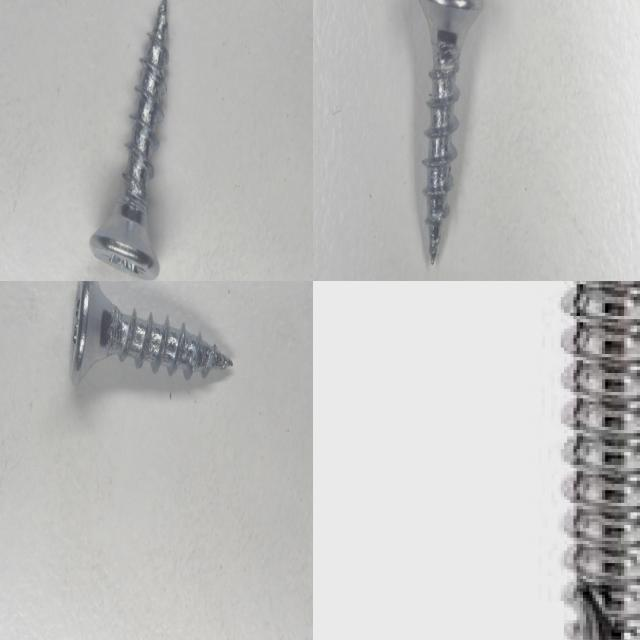Screw: (554, 281, 640, 640), (90, 0, 168, 279), (68, 281, 233, 388), (419, 0, 483, 263)
